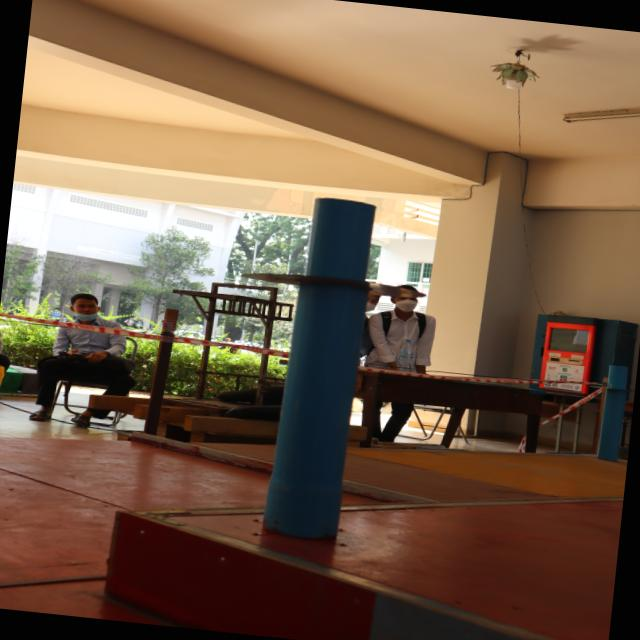pole: (250, 183, 440, 352)
